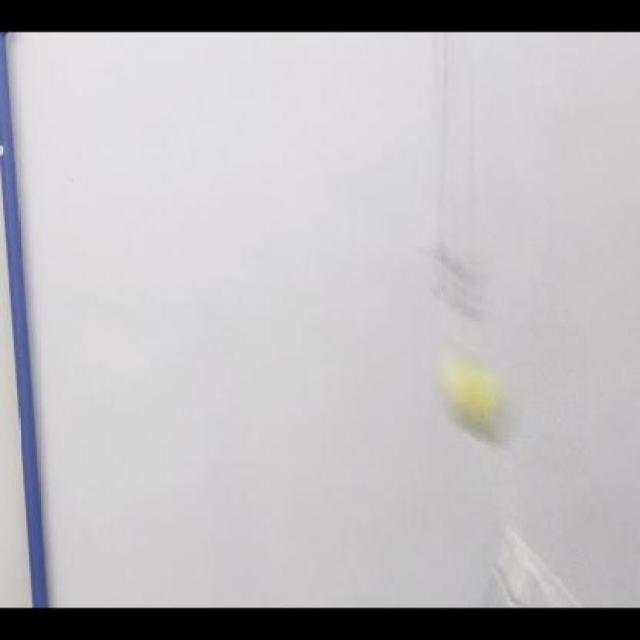baseball: (433, 345, 522, 457)
